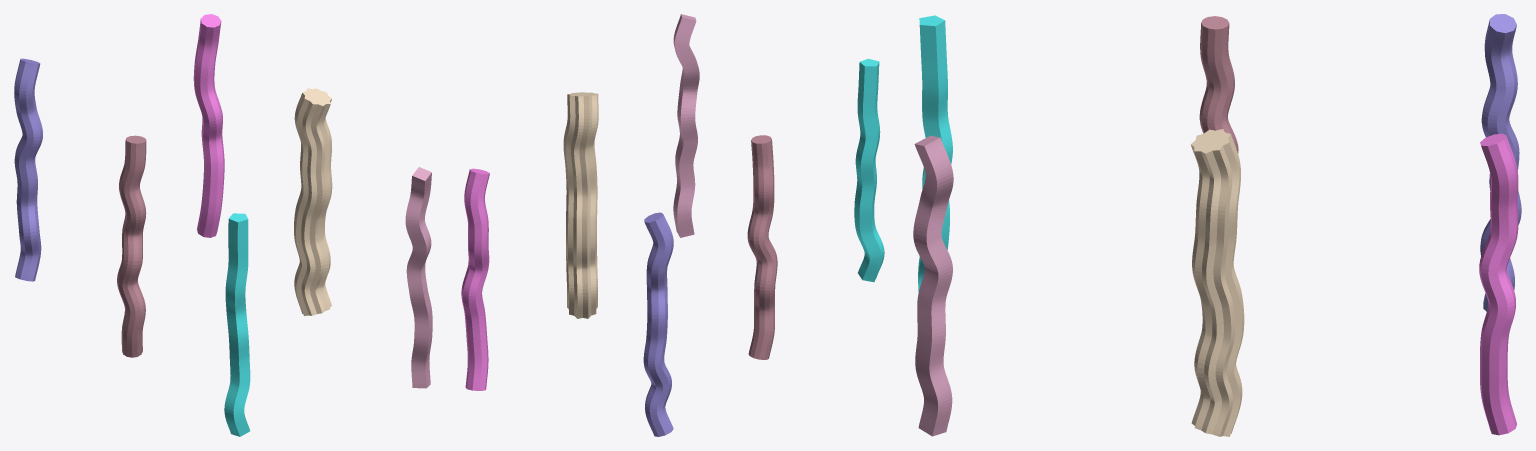
The model's file is Phong_Opened Spline_2023-07-23-20-47-44.gltf.
The picture shows the model from 3 angles, left to right: view 1: azimuth 30°, elevation 25°; view 2: azimuth 150°, elevation 25°; view 3: azimuth 270°, elevation 25°; orthographic projection. The views are drawn at different scales.
Size of the model in its own units: 231 by 234 by 430.
